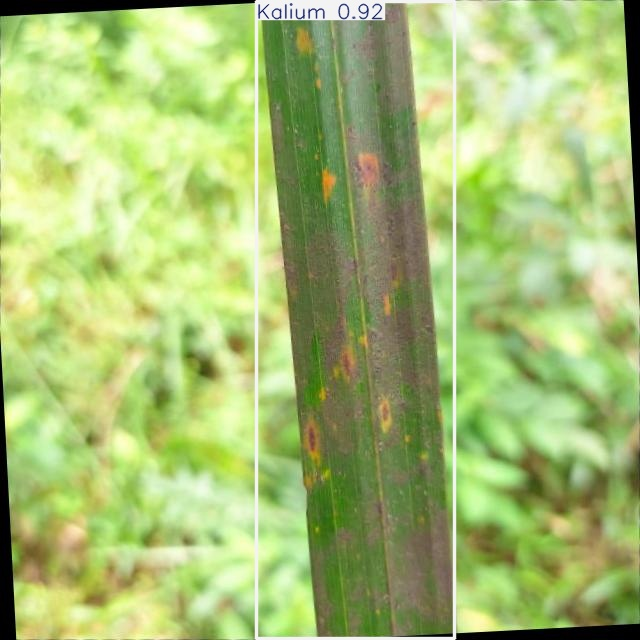Kalium: (257, 1, 455, 638)
